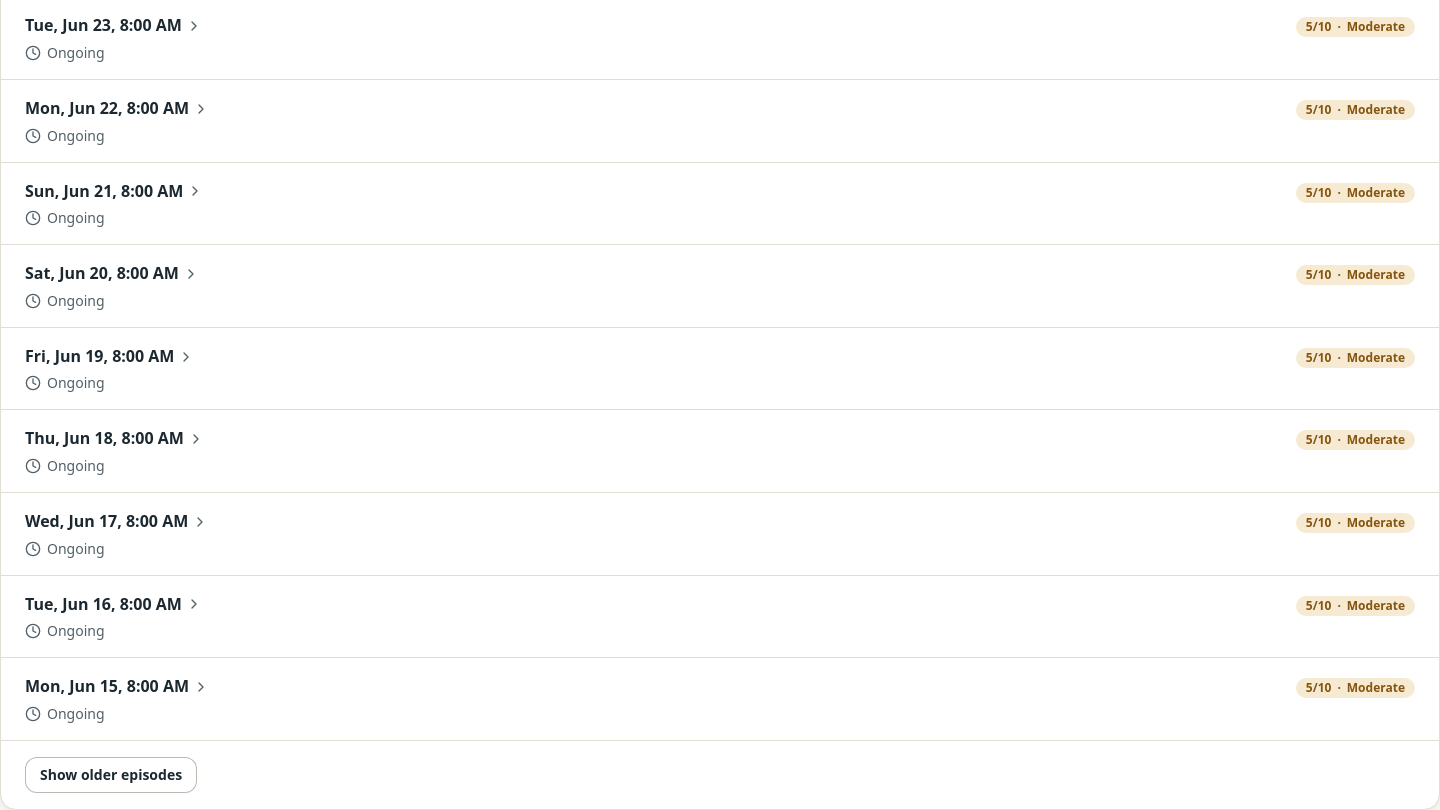
Test: HistoryPage › shows the real total and loads older episodes on request
The image size is (1440, 810).
(page scrolled)
Click the button "Show older episodes".
click(111, 775)  # box [25,757,197,793]
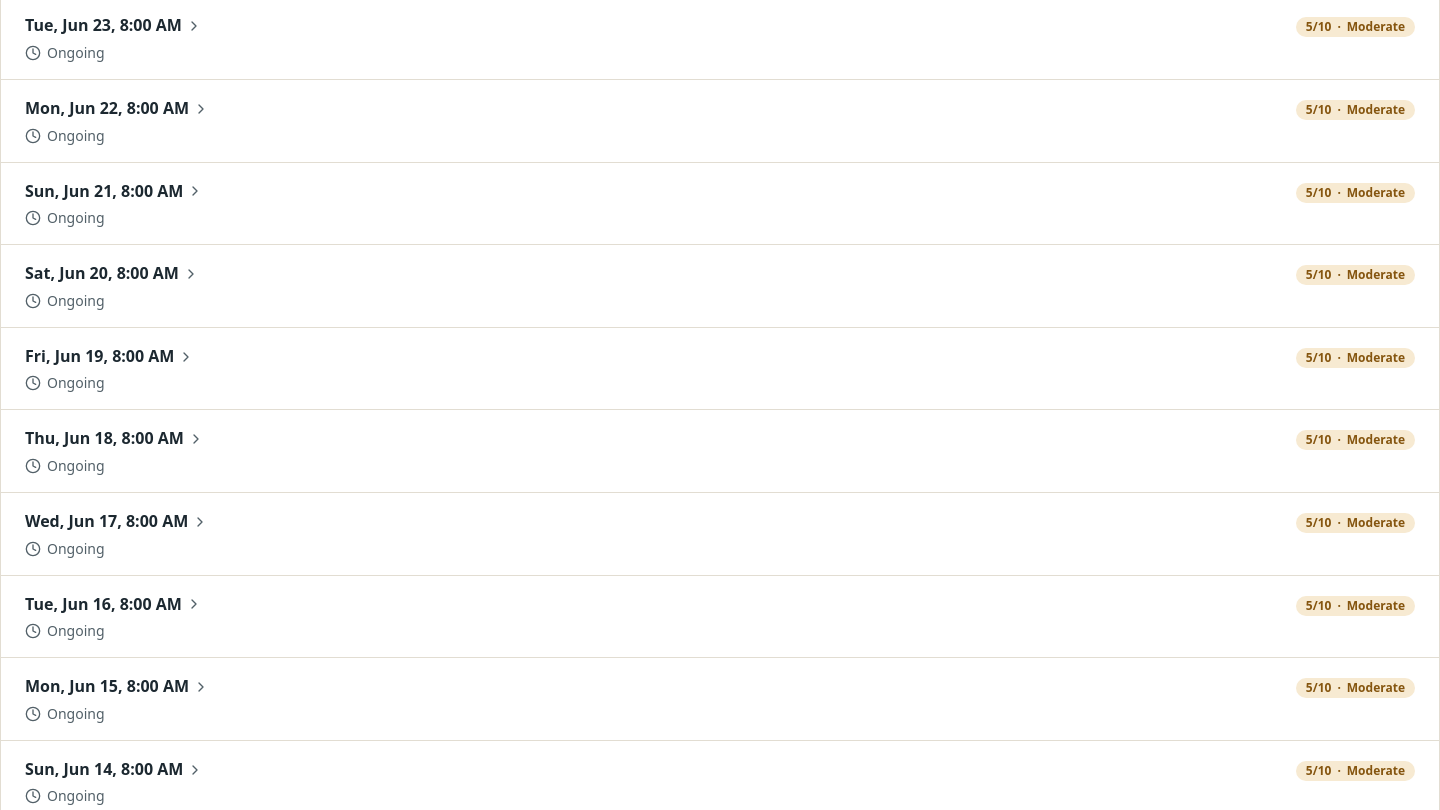
Check: the button "Show older episodes" is gone
